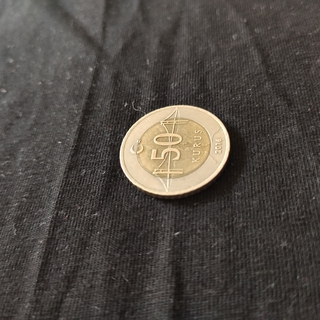50KURUS: (118, 103, 233, 200)
